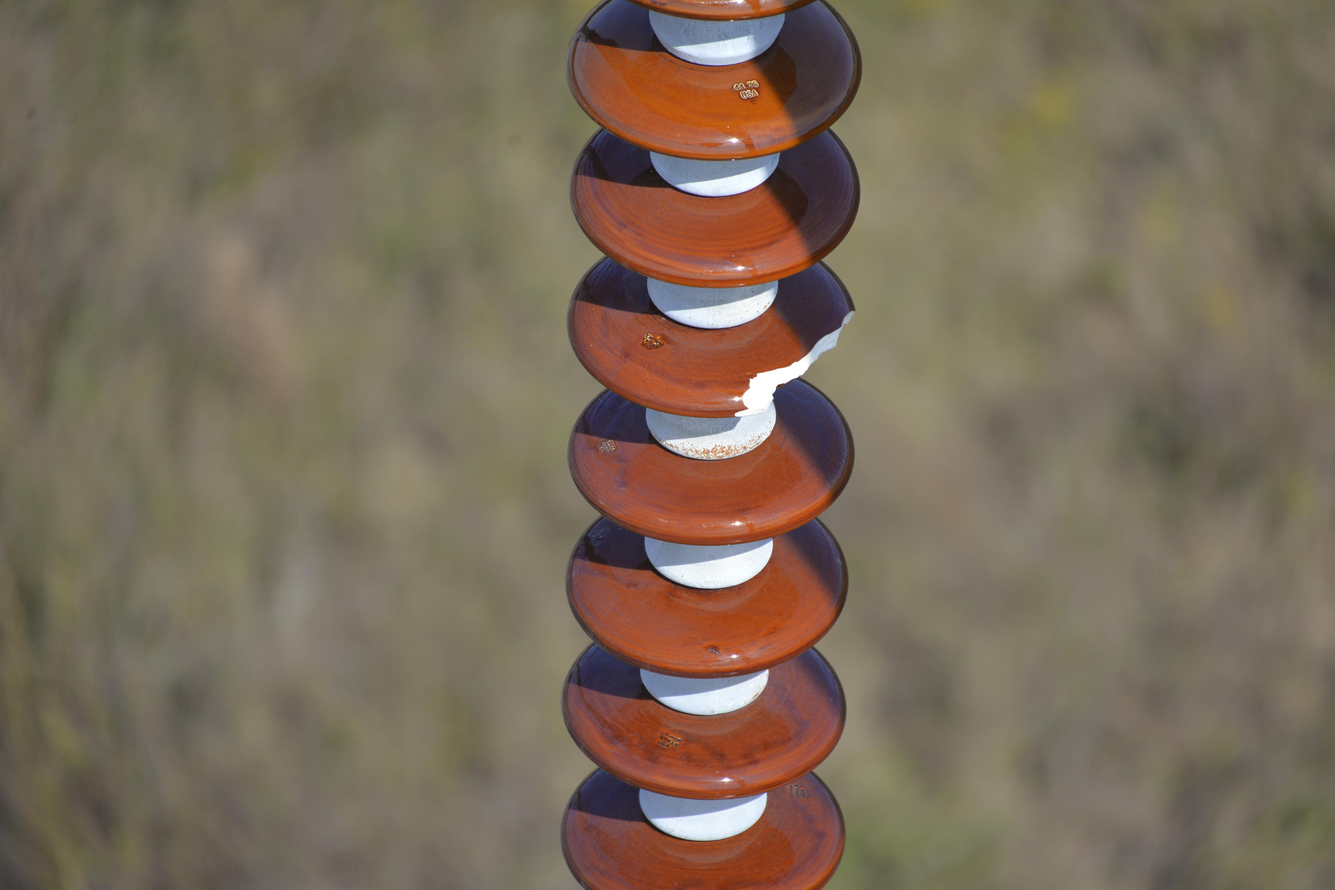damaged: (729, 302, 854, 413)
insulator: (560, 2, 860, 890)
